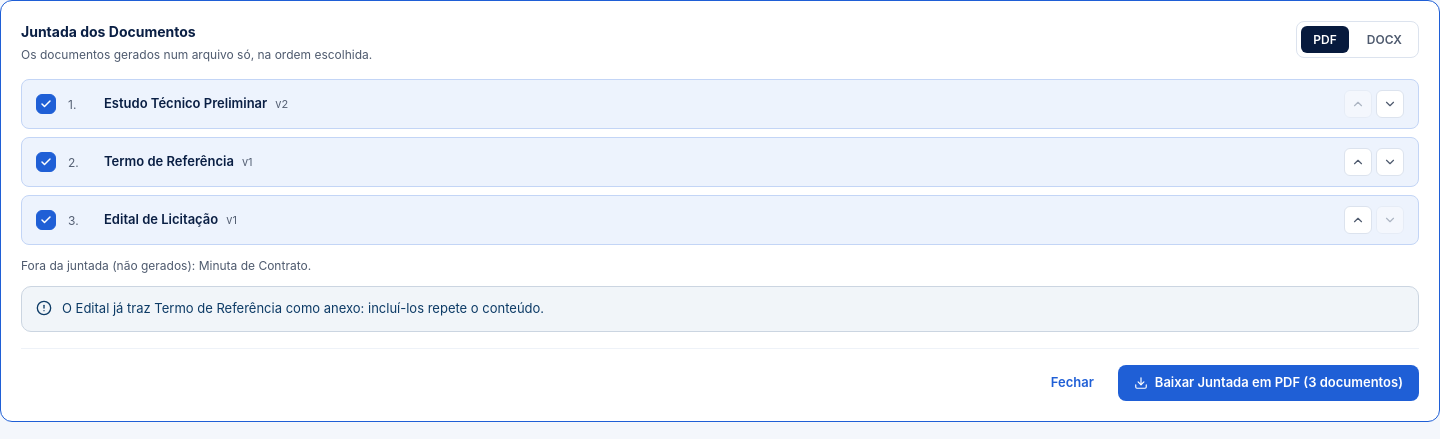
juntada dos documentos do processo › no DOCX, o que só foi gerado em PDF fica de fora, dizendo como incluir
The image size is (1440, 439).
Click the button "DOCX" at (1384, 40), box [1355, 26, 1414, 53]
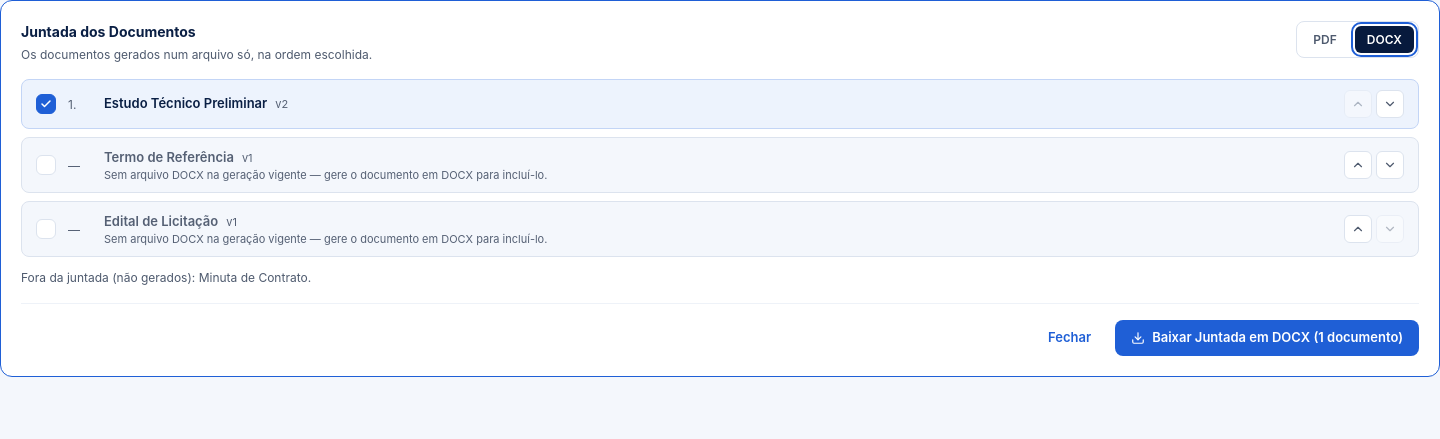
Check: the button "Baixar Juntada em DOCX (1 documento)" is enabled, box [1115, 320, 1419, 356]
Check: the button with aria-label "Incluir Termo de Referência na juntada" is disabled, box [36, 148, 1332, 182]
Check: the text "gere o documento em DOCX para incluí-lo" is shown 2 times, box [104, 168, 547, 182]; [104, 232, 547, 246]
